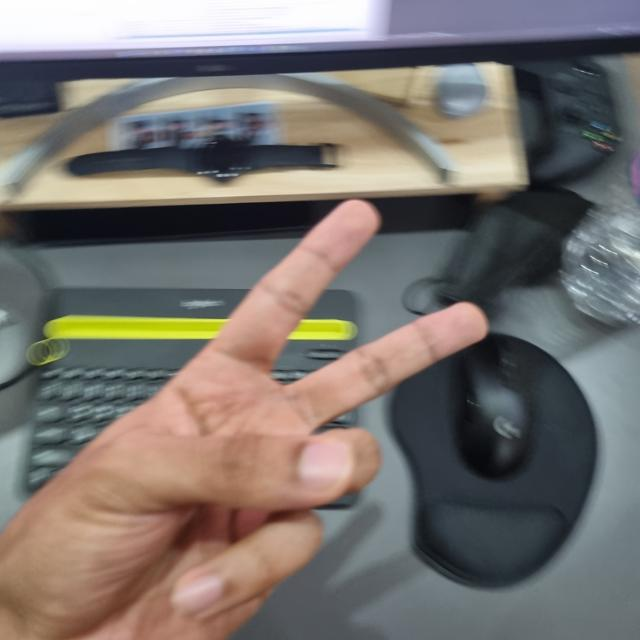Scissors: (1, 198, 485, 640)
